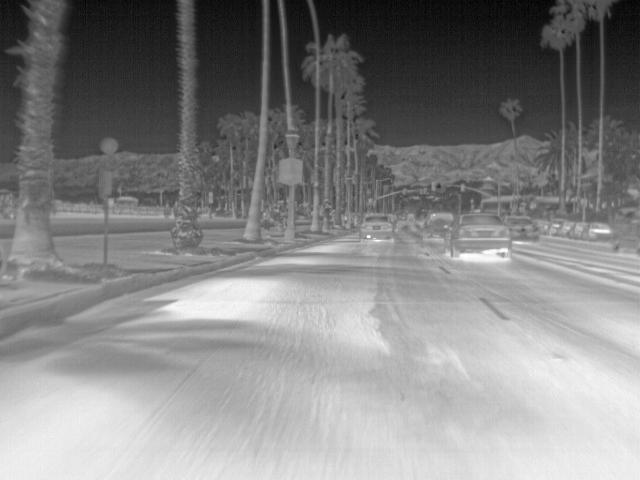car: (450, 212, 515, 258), (608, 207, 639, 252), (359, 212, 397, 239), (503, 215, 542, 241), (427, 211, 459, 238), (586, 222, 614, 241), (570, 220, 591, 239), (546, 218, 563, 236), (557, 220, 573, 238)
person: (160, 201, 175, 221)
